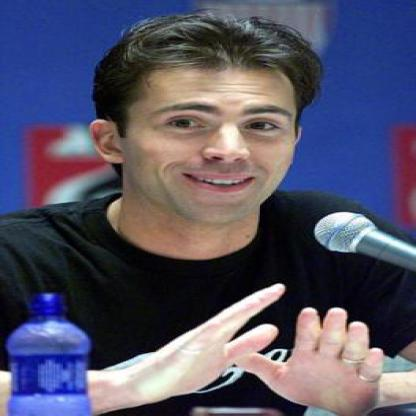face: (119, 31, 305, 227)
